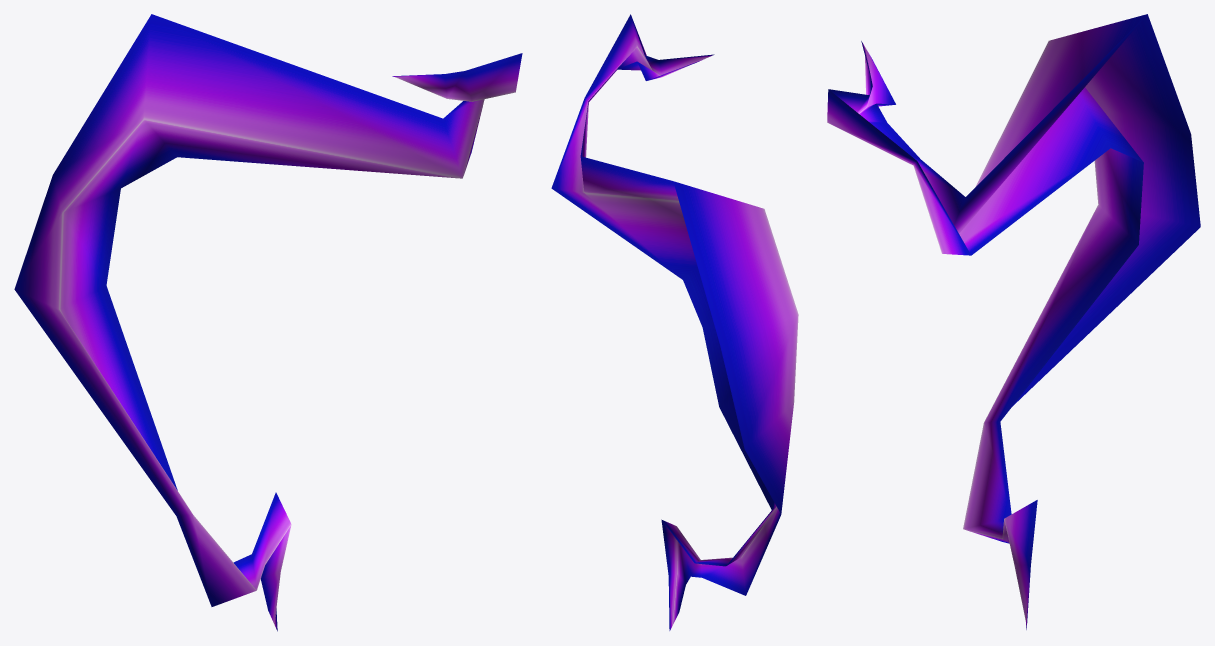
File: lightning_04.fbx
3 renders of one model, left to right at view 1: azimuth 30°, elevation 25°; view 2: azimuth 150°, elevation 25°; view 3: azimuth 270°, elevation 25°, orthographic. The views are drawn at different scales.
Parts seen in each view (by area): view 1: lightning_04; view 2: lightning_04; view 3: lightning_04.
Part boxes in pixels (x1=…): lightning_04: x1=14, y1=14, x2=522, y2=631; lightning_04: x1=551, y1=14, x2=798, y2=630; lightning_04: x1=827, y1=14, x2=1200, y2=629.
Bounding box in the file's own units: 29.11 × 49.07 × 27.09.
